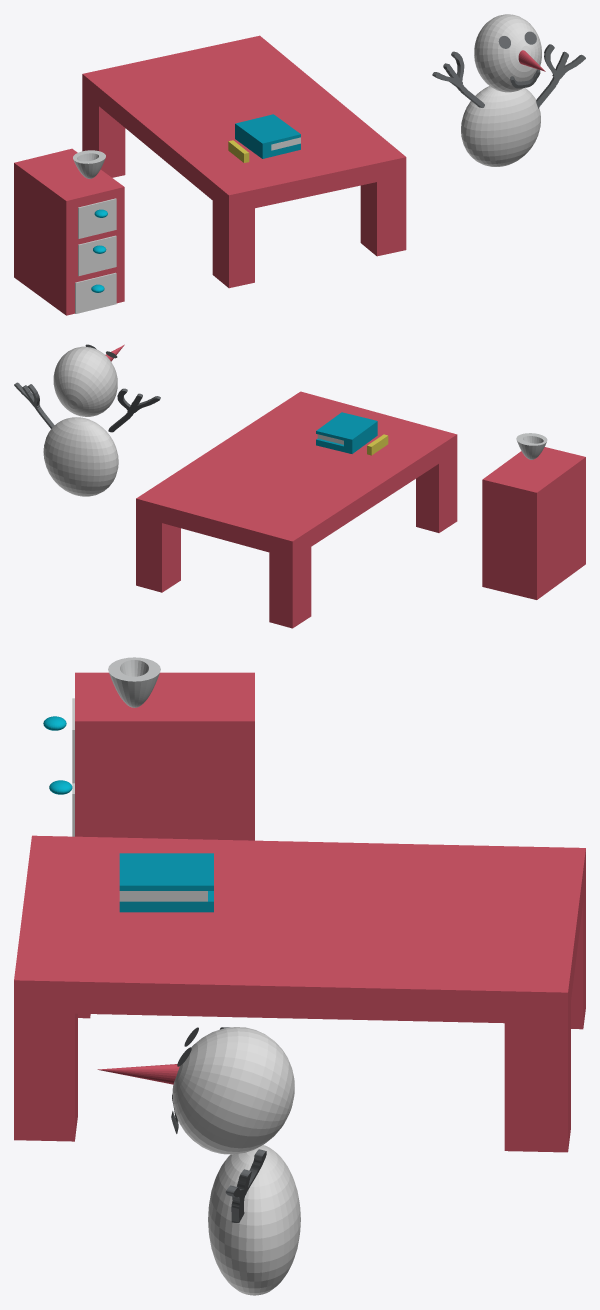
The model's file is Project 149.glb.
3 renders of one model, top to bottom at view 1: azimuth 30°, elevation 25°; view 2: azimuth 150°, elevation 25°; view 3: azimuth 270°, elevation 25°, orthographic. The views are drawn at different scales.
Visible parts, largest first — view 1: Mesh_Mesh_head_geo.001_lambert2SG.001; view 2: Mesh_Mesh_head_geo.001_lambert2SG.001; view 3: Mesh_Mesh_head_geo.001_lambert2SG.001.
Boxes of the visible parts, box(x1,y1,x2,y2) form: Mesh_Mesh_head_geo.001_lambert2SG.001: box(14, 14, 585, 315); Mesh_Mesh_head_geo.001_lambert2SG.001: box(14, 344, 585, 628); Mesh_Mesh_head_geo.001_lambert2SG.001: box(14, 657, 585, 1295).
Size of the model in its own units: 191 by 48.67 by 97.29.
